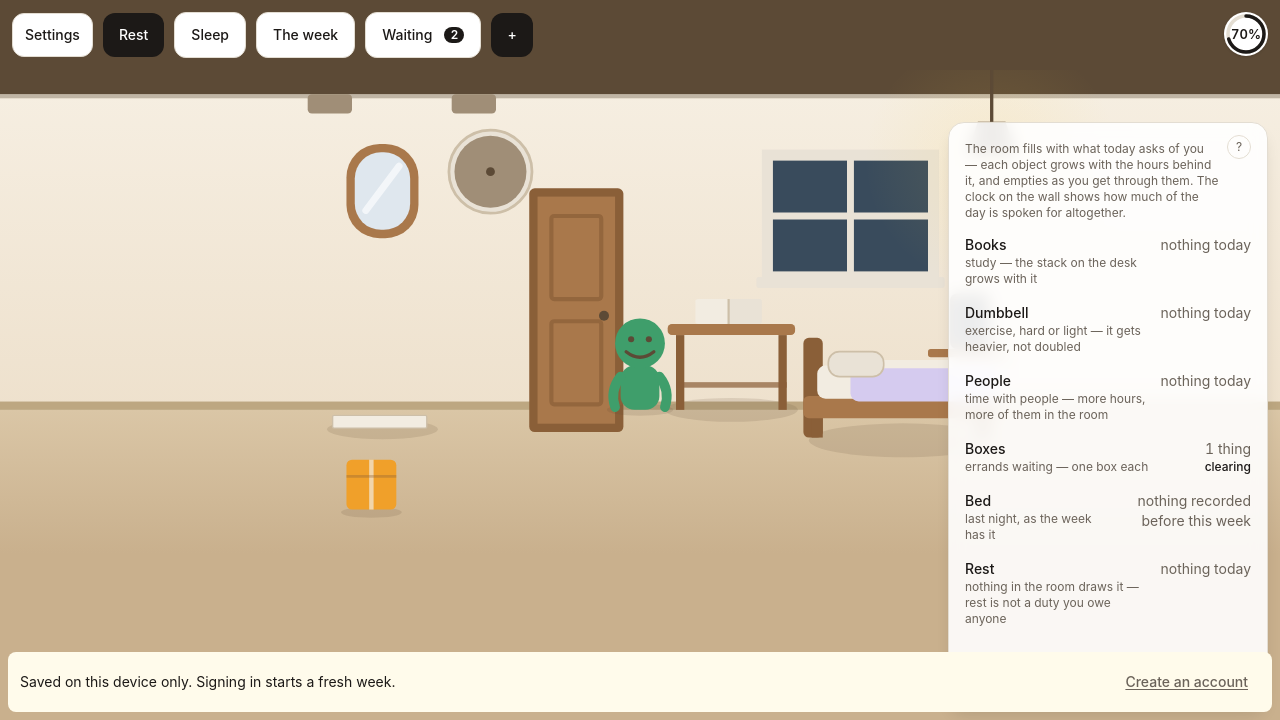
the waiting sheet › can be waved off for the block it is about
Click the button with test id "open-notices". click: (423, 35)
box: [365,12,481,58]
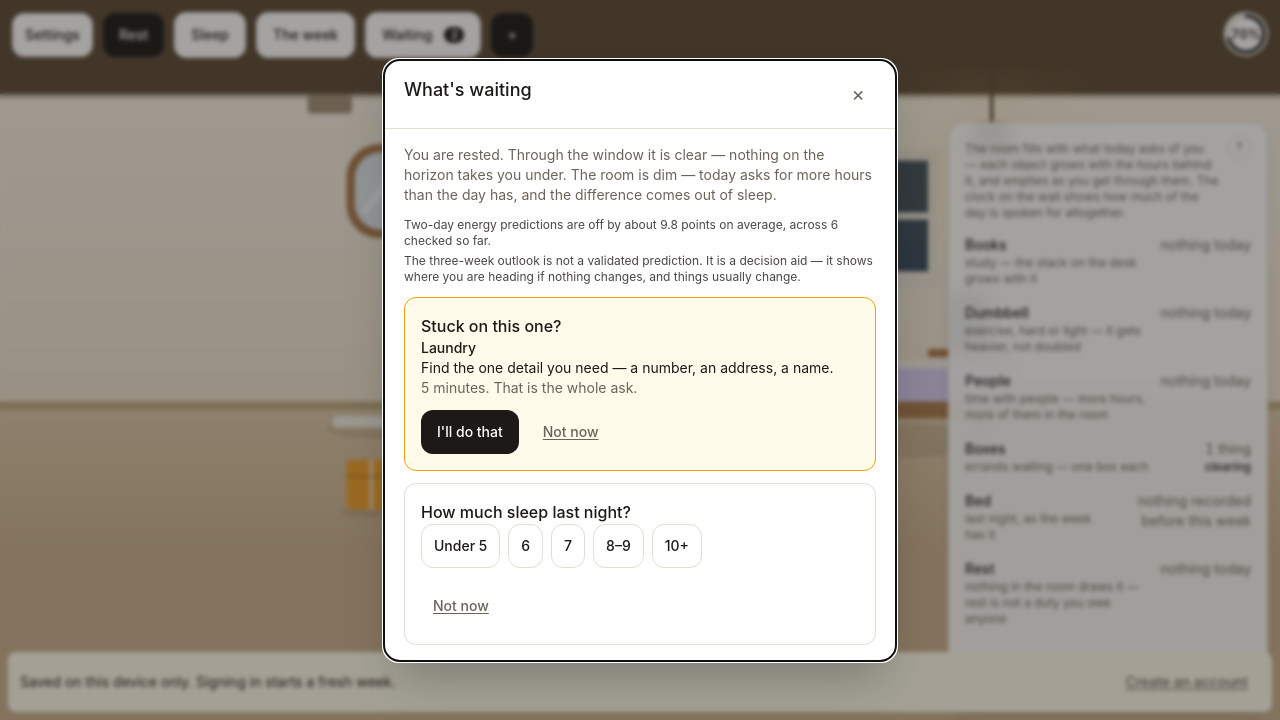
Click the button "Not now" below "minutes. That is the whole ask.". click: (571, 432)
box: [527,410,615,454]
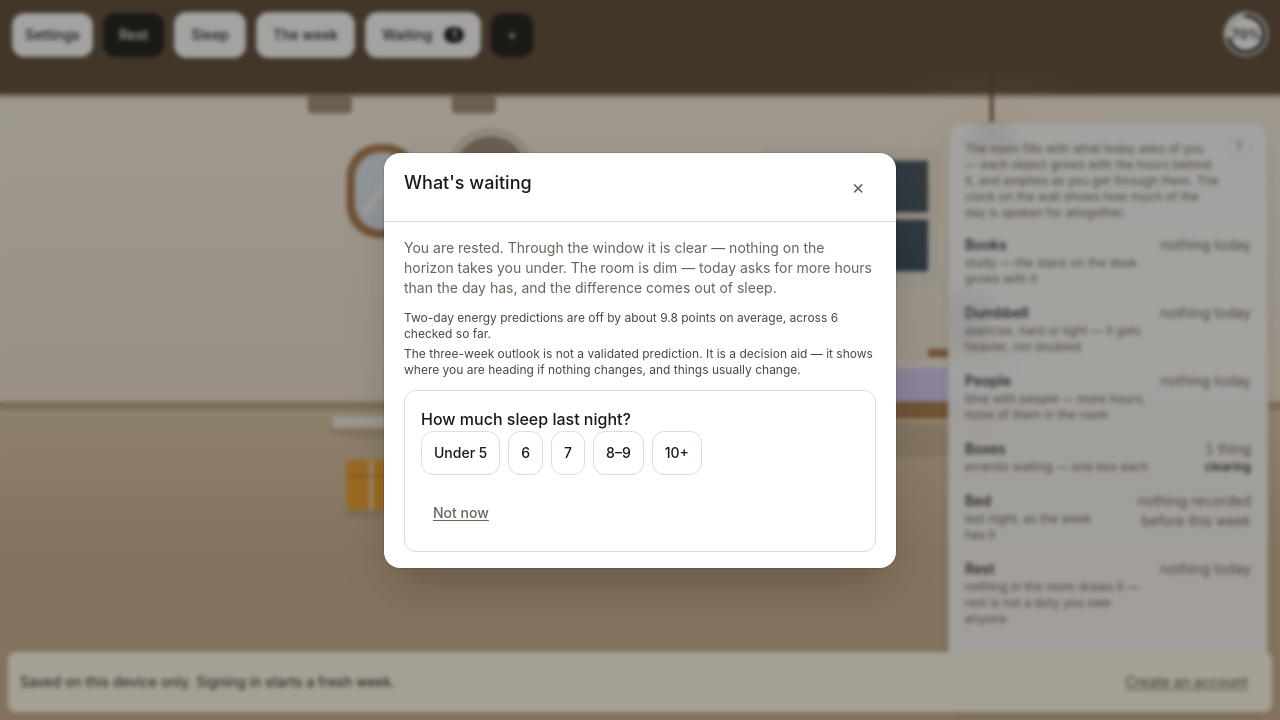
Now the message with test id "micro-start" is gone
